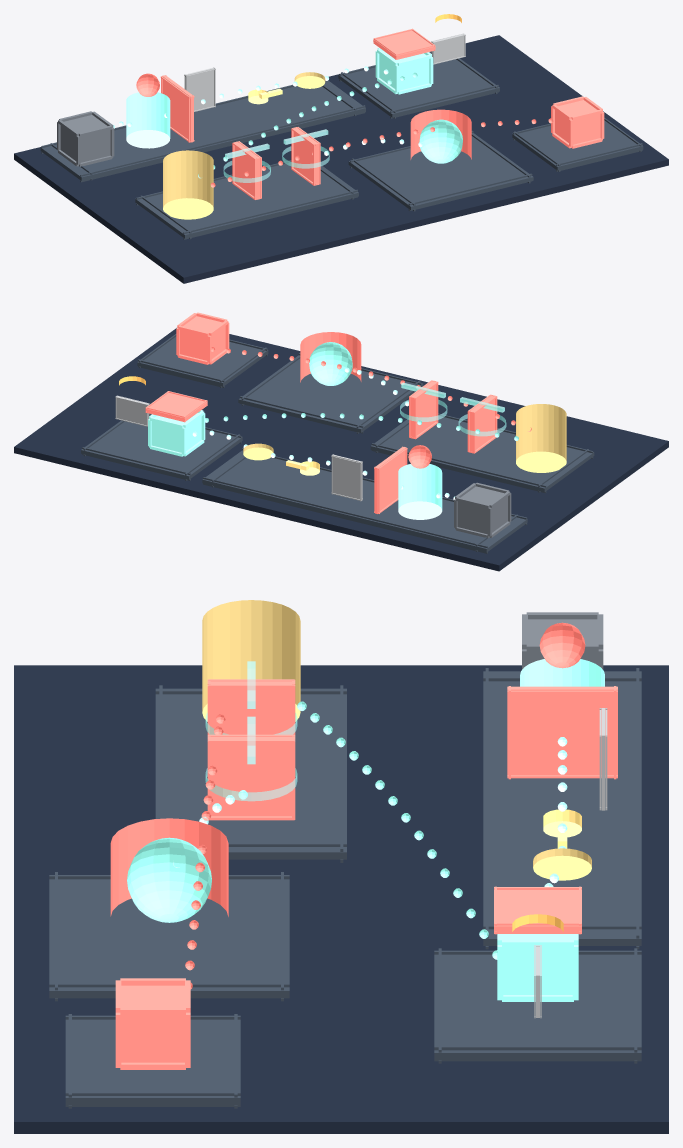
File: cks-supply-chain.glb
3 renders of one model, top to bottom at view 1: azimuth 30°, elevation 25°; view 2: azimuth 150°, elevation 25°; view 3: azimuth 270°, elevation 25°, orthographic. The views are drawn at different scales.
Parts seen in each view (by area): view 1: sc-floor, ci-pipeline, ns-payments, control-plane, registry-trusted, kube-apiserver, registry-untrusted, ci-build, untrusted-image, trivy-scanner, image-artifact, payments-pod (+12 smaller); view 2: sc-floor, ci-pipeline, ns-payments, control-plane, registry-trusted, kube-apiserver, registry-untrusted, ci-build, untrusted-image, trivy-scanner, image-artifact, payments-pod (+12 smaller); view 3: sc-floor, ci-pipeline, ns-payments, registry-trusted, control-plane, registry-untrusted, sim-ci-block, kube-apiserver, sim-sig-deny, untrusted-image, payments-pod, image-artifact (+12 smaller).
Boxes of the visible parts, x1=… form: sc-floor: x1=14, y1=35, x2=668, y2=283; ci-pipeline: x1=40, y1=80, x2=365, y2=182; ns-payments: x1=348, y1=130, x2=533, y2=211; control-plane: x1=135, y1=160, x2=358, y2=239; registry-trusted: x1=338, y1=51, x2=499, y2=118; kube-apiserver: x1=163, y1=150, x2=213, y2=219; registry-untrusted: x1=512, y1=117, x2=643, y2=171; ci-build: x1=57, y1=111, x2=114, y2=166; untrusted-image: x1=551, y1=96, x2=604, y2=148; trivy-scanner: x1=126, y1=92, x2=170, y2=148; image-artifact: x1=375, y1=48, x2=433, y2=94; payments-pod: x1=419, y1=119, x2=462, y2=163; sc-floor: x1=14, y1=328, x2=668, y2=571; ci-pipeline: x1=202, y1=448, x2=527, y2=553; ns-payments: x1=238, y1=353, x2=423, y2=433; control-plane: x1=370, y1=413, x2=594, y2=493; registry-trusted: x1=81, y1=413, x2=242, y2=480; kube-apiserver: x1=516, y1=404, x2=566, y2=472; registry-untrusted: x1=137, y1=334, x2=268, y2=387; ci-build: x1=454, y1=482, x2=511, y2=538; untrusted-image: x1=176, y1=312, x2=229, y2=364; trivy-scanner: x1=398, y1=464, x2=442, y2=519; image-artifact: x1=148, y1=410, x2=205, y2=456; payments-pod: x1=309, y1=342, x2=352, y2=385; sc-floor: x1=14, y1=665, x2=668, y2=1133; ci-pipeline: x1=483, y1=668, x2=641, y2=949; ns-payments: x1=49, y1=872, x2=289, y2=1001; registry-trusted: x1=434, y1=948, x2=641, y2=1063; control-plane: x1=155, y1=685, x2=346, y2=862; registry-untrusted: x1=65, y1=1014, x2=240, y2=1108; sim-ci-block: x1=507, y1=686, x2=617, y2=779; kube-apiserver: x1=202, y1=600, x2=300, y2=721; sim-sig-deny: x1=207, y1=734, x2=295, y2=820; untrusted-image: x1=115, y1=978, x2=190, y2=1069; payments-pod: x1=127, y1=837, x2=211, y2=922; image-artifact: x1=497, y1=934, x2=578, y2=1001.
Size of what is drawn, in the model's own units: 6.6 by 1.03 by 4.
